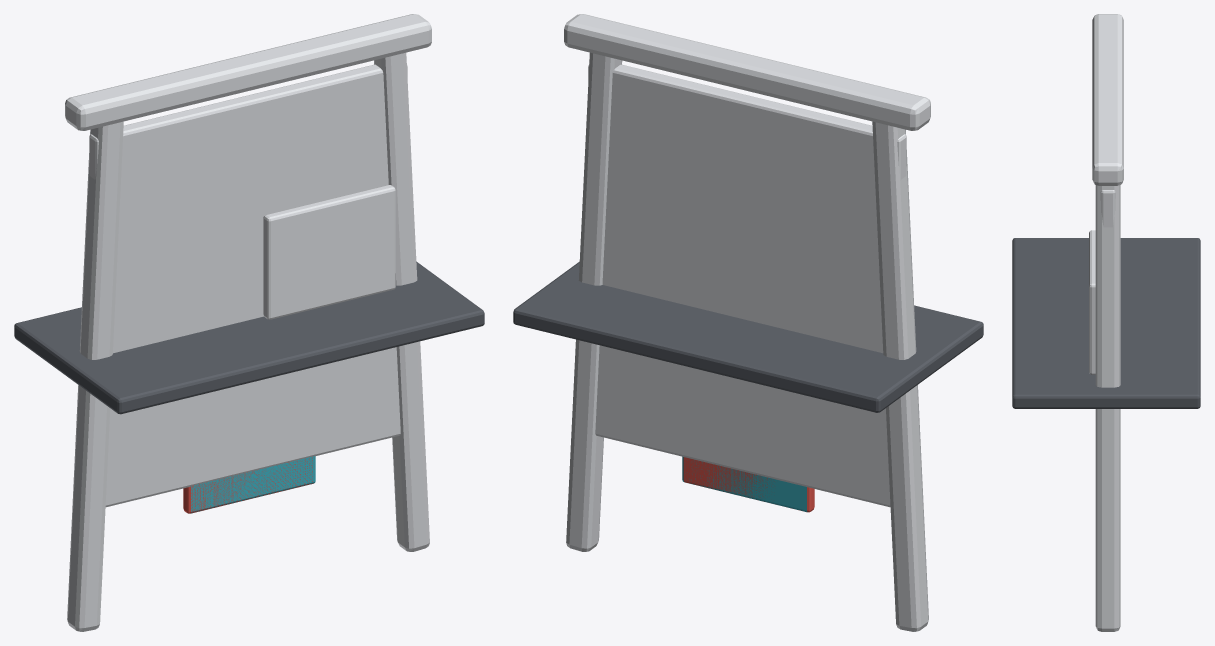
The model's file is btf-color-board.glb.
3 views of the same model, side by side, from view 1: azimuth 30°, elevation 25°; view 2: azimuth 150°, elevation 25°; view 3: azimuth 270°, elevation 25° (orthographic). The views are drawn at different scales.
Parts seen in each view (by area): view 1: 126-colour-sample-board/1, 126-colour-sample-board/0, 126-colour-sample-board/3, 126-colour-sample-board/2; view 2: 126-colour-sample-board/1, 126-colour-sample-board/0, 126-colour-sample-board/3, 126-colour-sample-board/2; view 3: 126-colour-sample-board/0, 126-colour-sample-board/1.
Boxes of the visible parts, left/top/right/bottom form: 126-colour-sample-board/1: left=65, top=14, right=431, bottom=631; 126-colour-sample-board/0: left=14, top=261, right=484, bottom=414; 126-colour-sample-board/3: left=191, top=456, right=315, bottom=513; 126-colour-sample-board/2: left=183, top=457, right=314, bottom=513; 126-colour-sample-board/1: left=564, top=14, right=930, bottom=631; 126-colour-sample-board/0: left=513, top=261, right=983, bottom=412; 126-colour-sample-board/3: left=682, top=456, right=807, bottom=511; 126-colour-sample-board/2: left=683, top=457, right=814, bottom=512; 126-colour-sample-board/0: left=1012, top=238, right=1200, bottom=408; 126-colour-sample-board/1: left=1089, top=14, right=1123, bottom=631.
Size of the model in its own units: 39320 by 54066 by 19663.
